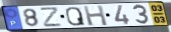3: (132, 4, 150, 25)
4: (114, 4, 132, 26)
8: (23, 8, 41, 28)
H: (83, 5, 110, 27)
Q: (65, 6, 87, 27)
Z: (39, 6, 63, 28)
